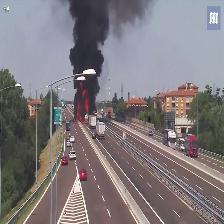fire: (75, 82, 91, 119)
